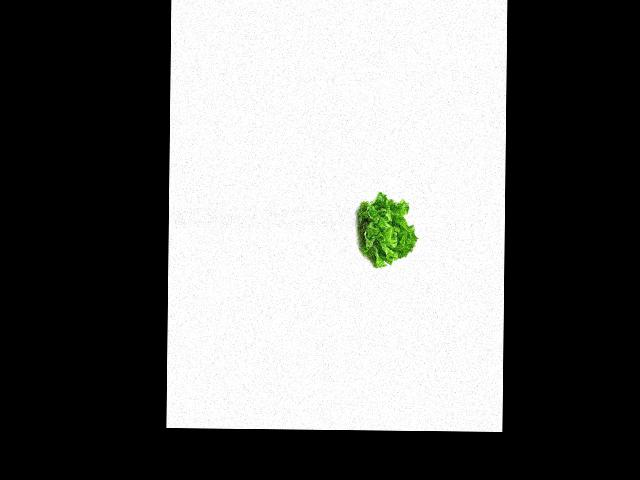lettuce: (355, 192, 418, 266)
